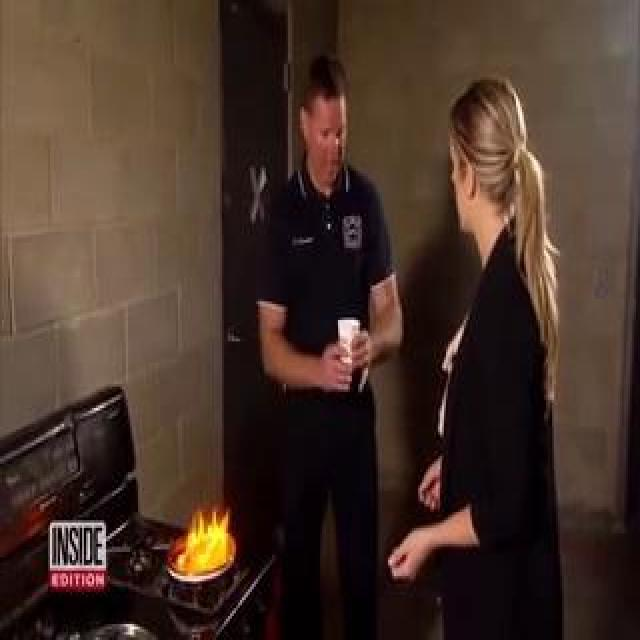Fire: (62, 96, 190, 522)
